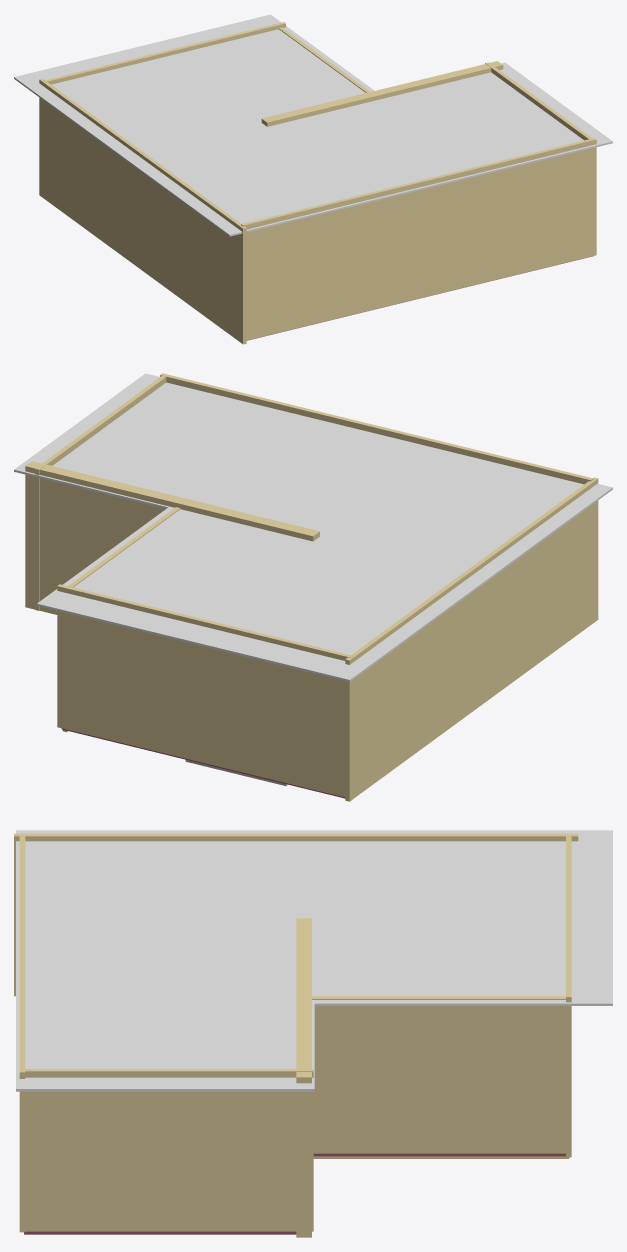
Rendered from Room-final1.fbx.
The picture shows the model from 3 angles, top to bottom: view 1: azimuth 30°, elevation 25°; view 2: azimuth 150°, elevation 25°; view 3: azimuth 270°, elevation 25°; orthographic projection. The views are drawn at different scales.
Visible parts, largest first — view 1: Chushion.005; view 2: Chushion.005; view 3: Chushion.005.
Boxes of the visible parts, x1,y1,x2,y2 form: Chushion.005: [14, 14, 612, 344]; Chushion.005: [14, 373, 612, 801]; Chushion.005: [14, 830, 612, 1237].
Bounding box in the file's own units: 2147 × 643 × 2100.
